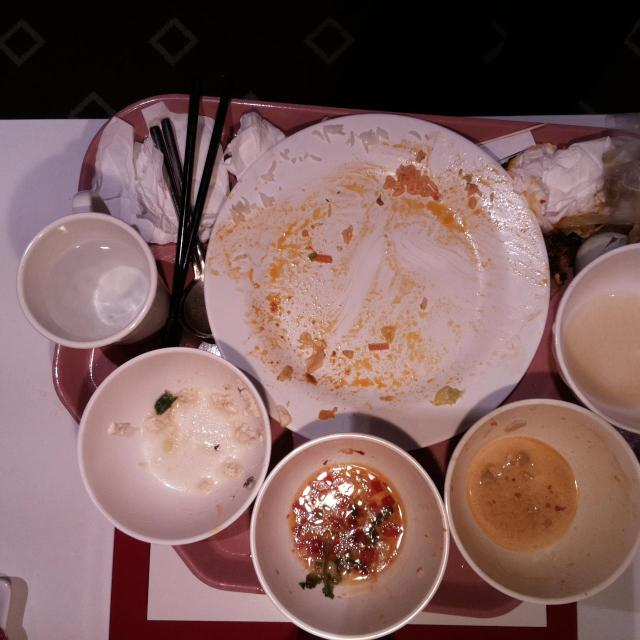Rice: (382, 162, 440, 198)
Vegetable: (152, 391, 178, 416)
